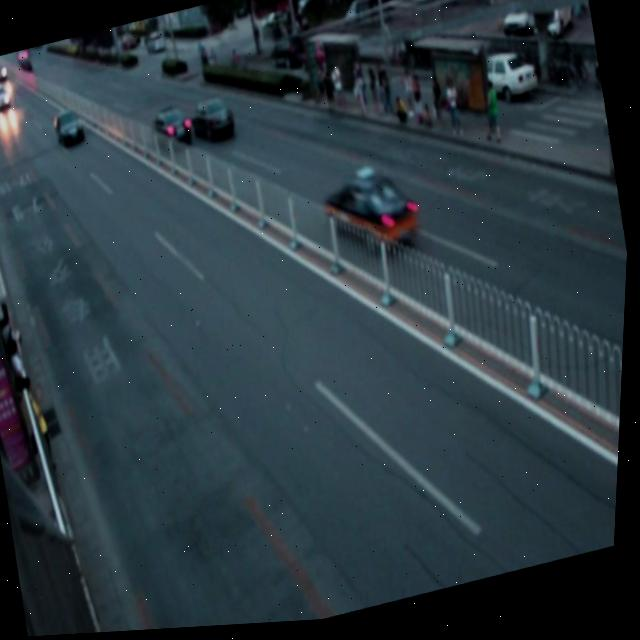car: (320, 163, 428, 267), (188, 91, 240, 152), (148, 103, 198, 163), (52, 104, 91, 153)
